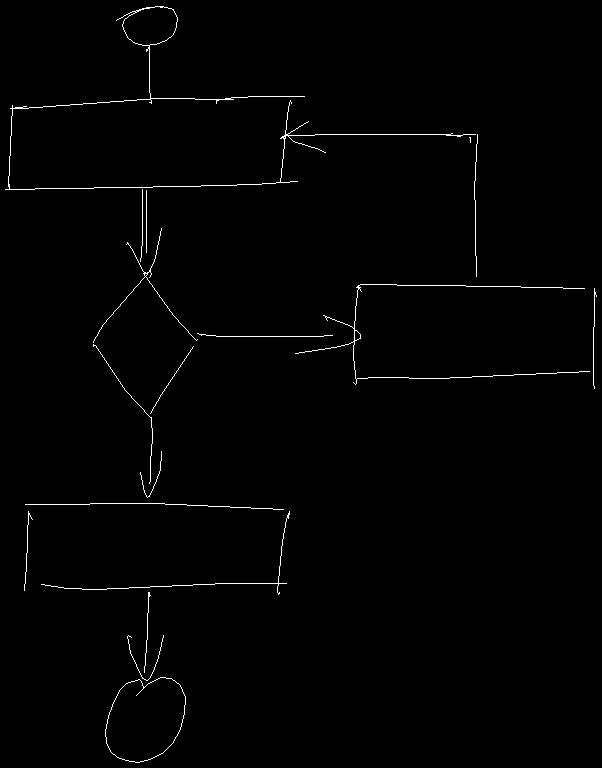arrow: (280, 121, 477, 276), (197, 315, 360, 353), (127, 592, 163, 680), (126, 189, 161, 273), (140, 417, 161, 497), (146, 45, 151, 103)
connection: (105, 677, 185, 762), (116, 6, 177, 45)
decision: (93, 270, 197, 417)
process: (5, 96, 304, 189), (353, 284, 596, 388), (24, 503, 289, 594)
